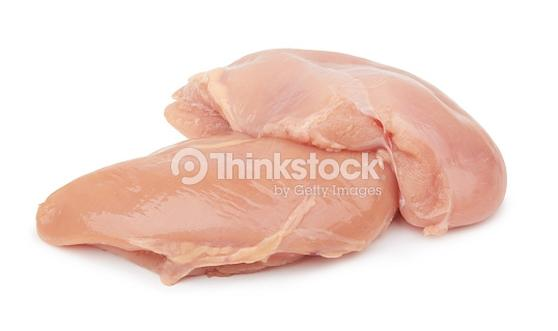chicken_fillet: (183, 46, 515, 228), (35, 128, 400, 277)
